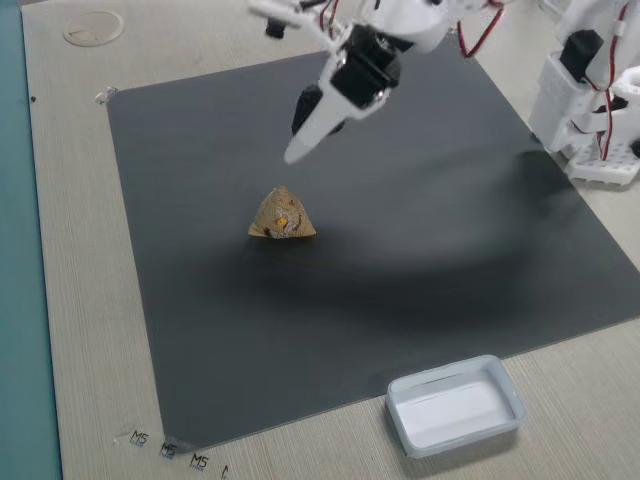gripper: (247, 0, 406, 176)
